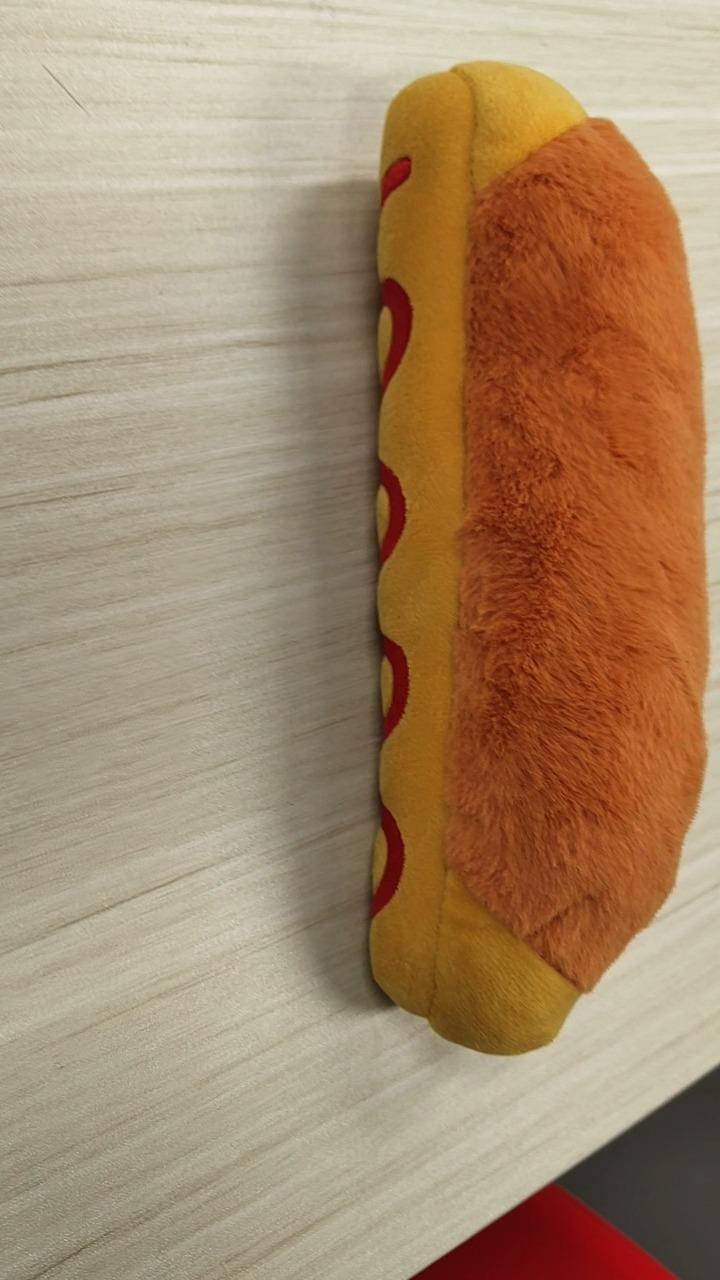hotdog: (366, 58, 709, 1056)
